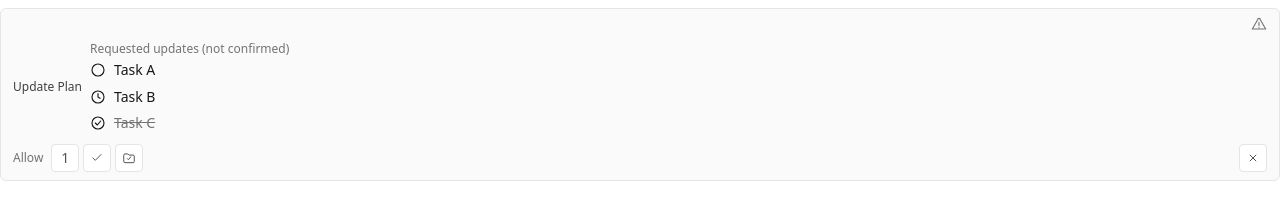
Test case: todo approval shows an unconfirmed preview and working approval actions
Expected: the text "Requested updates (not confirmed)" is shown, [90, 40, 289, 57]
Expected: the list named "Requested updates" is shown, [90, 60, 156, 132]
Click the button named "Approve once" at (65, 158), box [51, 144, 79, 172]
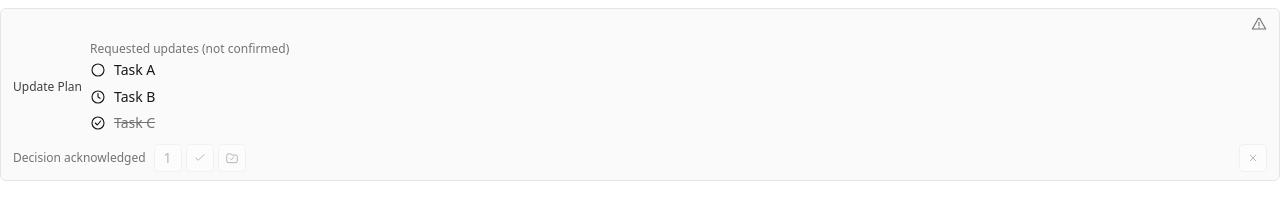
Result: the text "Decision acknowledged" is shown at [13, 150, 146, 166]
